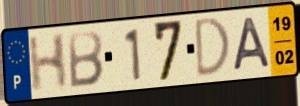1: (123, 26, 142, 83)
7: (151, 18, 185, 84)
A: (231, 15, 273, 73)
B: (67, 29, 105, 90)
D: (194, 15, 233, 81)
H: (26, 31, 68, 95)
